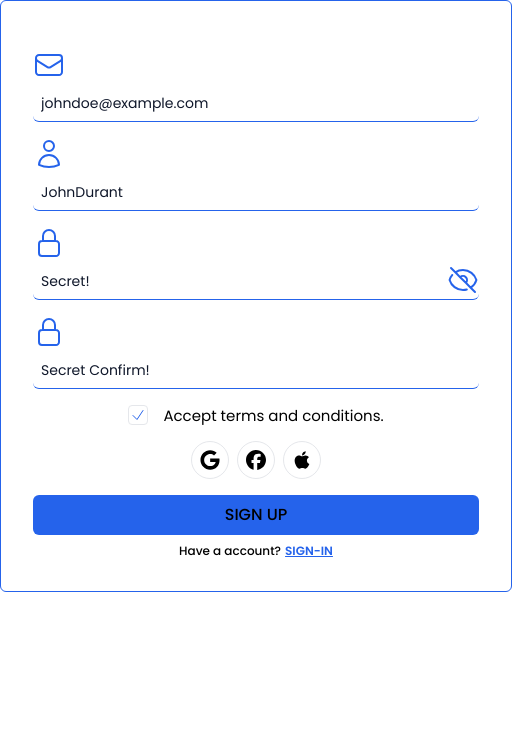
it: <SignUpComponent> › Should show error messages when fields are empty
Click the button "Sign Up" at point(256, 515), box [33, 495, 479, 535]
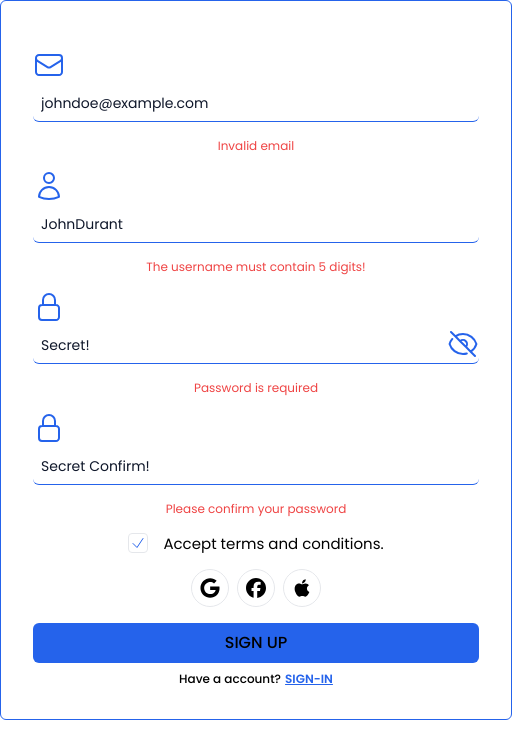
Now the text "Invalid email" is shown, box [218, 138, 294, 154]
Now the text "The username must contain 5 digits!" is shown, box [146, 259, 366, 275]
Now the text "Please confirm your password" is shown, box [166, 501, 346, 517]
